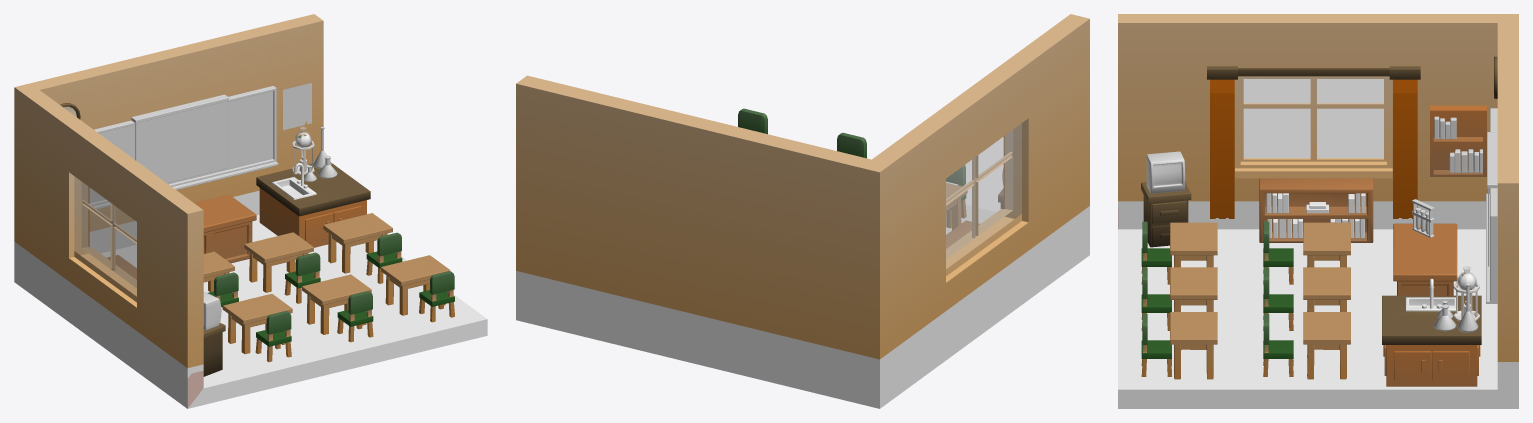
Rendered from Classroom.fbx.
3 renders of one model, left to right at view 1: azimuth 30°, elevation 25°; view 2: azimuth 150°, elevation 25°; view 3: azimuth 270°, elevation 25°, orthographic. The views are drawn at different scales.
Parts seen in each view (by area): view 1: Cube, Cube.004, Cube.002, Cube.003, Cube.005, Cube.011, Cube.007, Plane, Cube.009, Cube.010, Sphere; view 2: Cube, Cube.011, Cube.003; view 3: Cube, Cube.011, Cube.002, Cube.005, Cube.012, Cube.001, Cube.003, Cube.007, Cube.008, Cube.006, Cube.004, Cube.009 (+6 smaller).
Boxes of the visible parts, x1=… form: Cube: x1=14, y1=14, x2=487, y2=408; Cube.004: x1=90, y1=86, x2=278, y2=210; Cube.002: x1=203, y1=213, x2=450, y2=353; Cube.003: x1=207, y1=232, x2=454, y2=362; Cube.005: x1=256, y1=163, x2=370, y2=247; Cube.011: x1=74, y1=177, x2=136, y2=302; Cube.007: x1=194, y1=194, x2=256, y2=263; Plane: x1=283, y1=83, x2=311, y2=130; Cube.009: x1=203, y1=323, x2=225, y2=376; Cube.010: x1=203, y1=291, x2=221, y2=330; Sphere: x1=292, y1=126, x2=314, y2=174; Cube: x1=516, y1=14, x2=1089, y2=408; Cube.011: x1=946, y1=123, x2=1021, y2=276; Cube.003: x1=738, y1=108, x2=966, y2=227; Cube: x1=1118, y1=14, x2=1518, y2=408; Cube.011: x1=1235, y1=76, x2=1392, y2=178; Cube.002: x1=1170, y1=222, x2=1350, y2=379; Cube.005: x1=1382, y1=278, x2=1481, y2=386; Cube.012: x1=1210, y1=79, x2=1417, y2=218; Cube.001: x1=1259, y1=178, x2=1373, y2=242; Cube.003: x1=1141, y1=221, x2=1293, y2=376; Cube.007: x1=1393, y1=223, x2=1457, y2=295; Cube.008: x1=1430, y1=105, x2=1486, y2=176; Cube.006: x1=1207, y1=66, x2=1420, y2=79; Cube.004: x1=1486, y1=108, x2=1497, y2=303; Cube.009: x1=1141, y1=182, x2=1191, y2=247.
Size of the model in its own units: 5.28 by 3.28 by 5.28.
